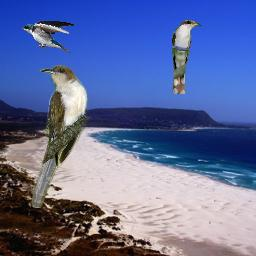Cuckoo: (31, 65, 89, 208), (171, 19, 201, 94)
Swallow: (21, 20, 75, 53)
